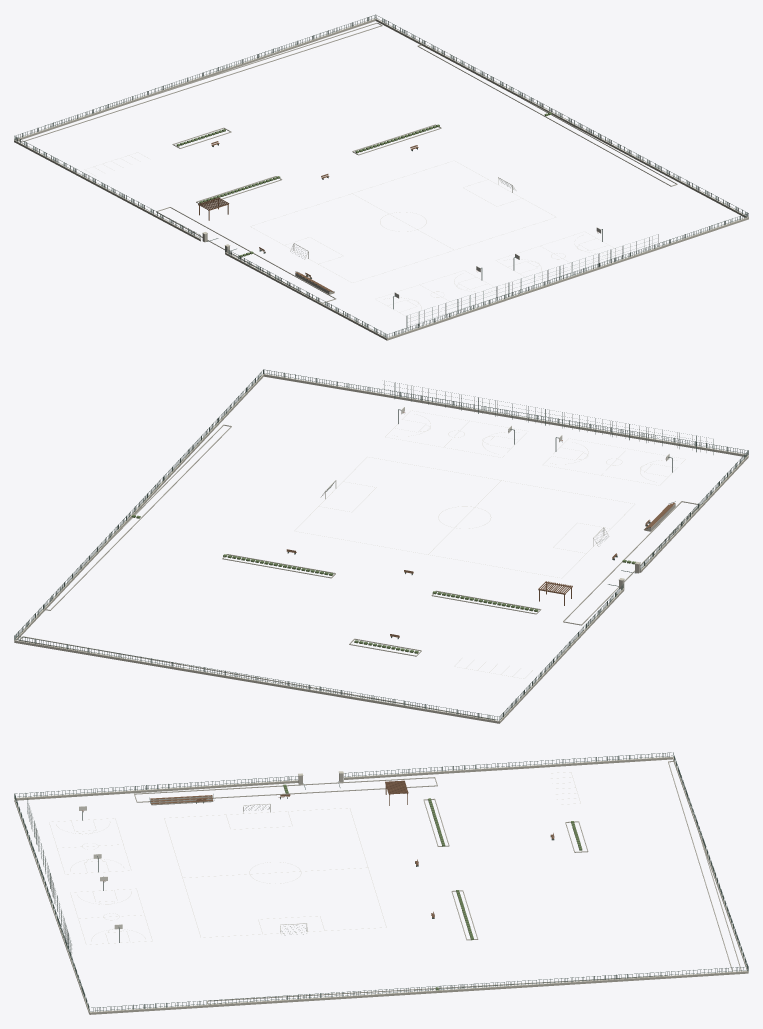
3 views of the same model, one above another, from view 1: azimuth 30°, elevation 25°; view 2: azimuth 150°, elevation 25°; view 3: azimuth 270°, elevation 25° (orthographic). The views are drawn at different scales.
Parts seen in each view (by area): view 1: prop_boundary-fence, prop_flowerbeds, prop_court-ball-fence; view 2: prop_boundary-fence, prop_flowerbeds, prop_court-ball-fence, prop_field-lines; view 3: prop_boundary-fence, prop_flowerbeds, prop_field-lines, prop_court-ball-fence, prop_open-stand.
Part boxes in pixels (x1=…): prop_boundary-fence: x1=14, y1=14, x2=748, y2=340; prop_flowerbeds: x1=18, y1=22, x2=677, y2=303; prop_court-ball-fence: x1=406, y1=234, x2=658, y2=329; prop_boundary-fence: x1=14, y1=369, x2=748, y2=723; prop_flowerbeds: x1=19, y1=424, x2=700, y2=720; prop_court-ball-fence: x1=383, y1=380, x2=713, y2=454; prop_field-lines: x1=294, y1=457, x2=634, y2=578; prop_boundary-fence: x1=14, y1=752, x2=748, y2=1014; prop_flowerbeds: x1=134, y1=761, x2=741, y2=1004; prop_field-lines: x1=164, y1=808, x2=386, y2=937; prop_court-ball-fence: x1=27, y1=798, x2=71, y2=955; prop_open-stand: x1=149, y1=794, x2=214, y2=805.
Bounding box in the file's own units: 136 × 4.01 × 165.
